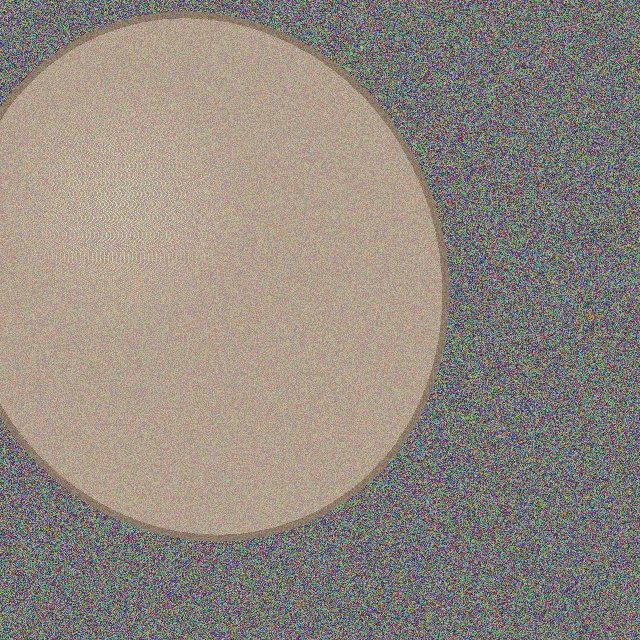lens: (0, 15, 444, 537)
